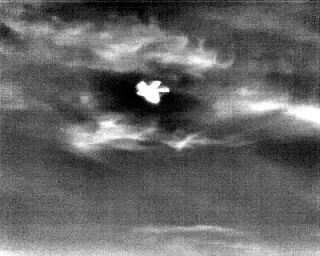HELICOPTER: (133, 74, 173, 109)
